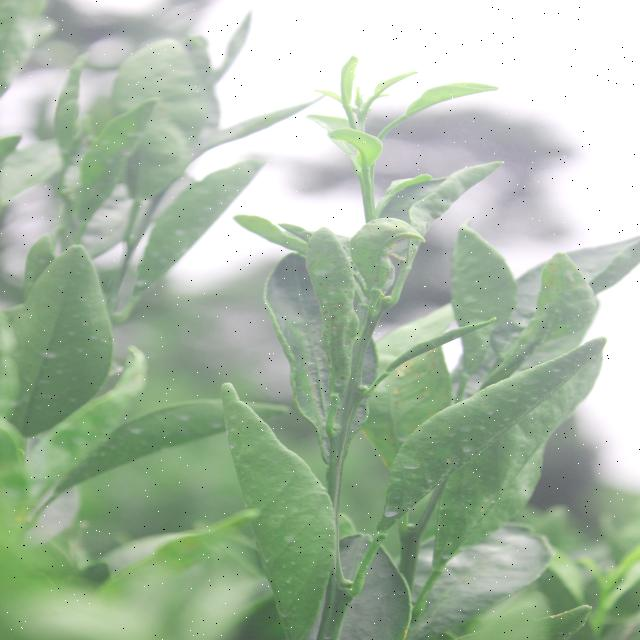canker: (361, 324, 461, 442), (304, 238, 362, 430), (357, 216, 416, 282)
